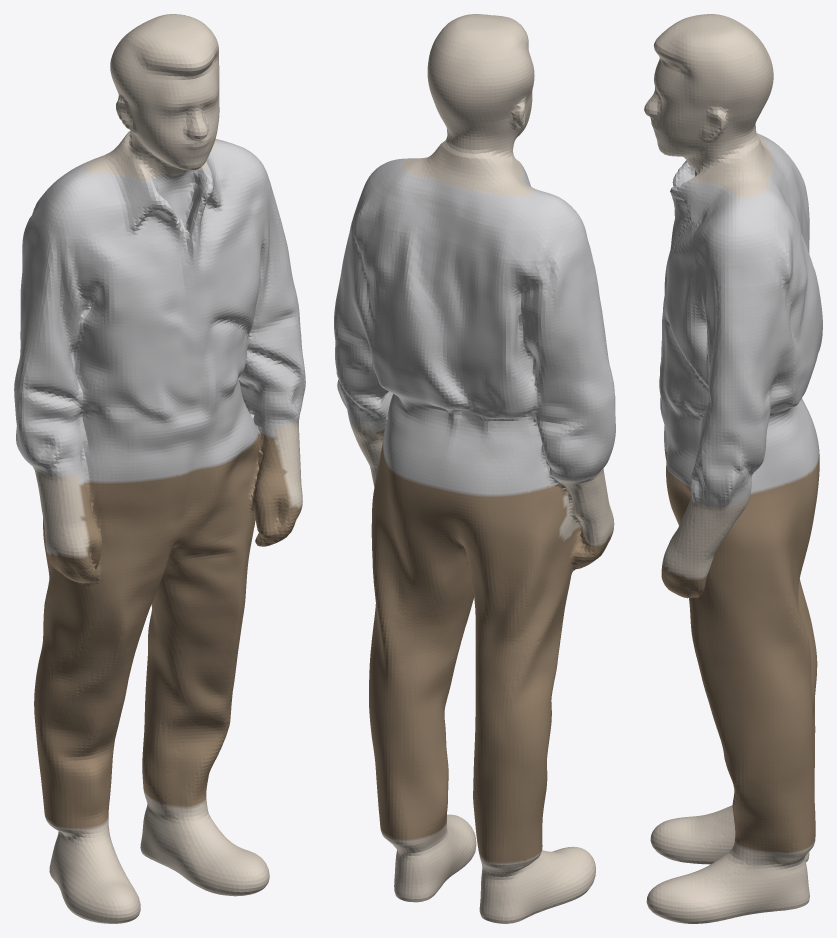
Rendered from shirt2_pant5.glb.
The picture shows the model from 3 angles, left to right: view 1: azimuth 30°, elevation 25°; view 2: azimuth 150°, elevation 25°; view 3: azimuth 270°, elevation 25°; orthographic projection.
Parts seen in each view (by area): view 1: geometry_0; view 2: geometry_0; view 3: geometry_0.
Part boxes in pixels (x1,y1,x2,y2): geometry_0: (14, 14, 305, 923); geometry_0: (334, 14, 615, 923); geometry_0: (644, 14, 822, 923).
Size of the model in its own units: 0.6743 by 1.99 by 0.3729.
